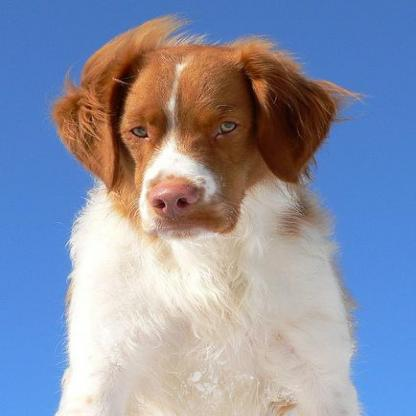Brittany_spaniel: (50, 12, 365, 414)
